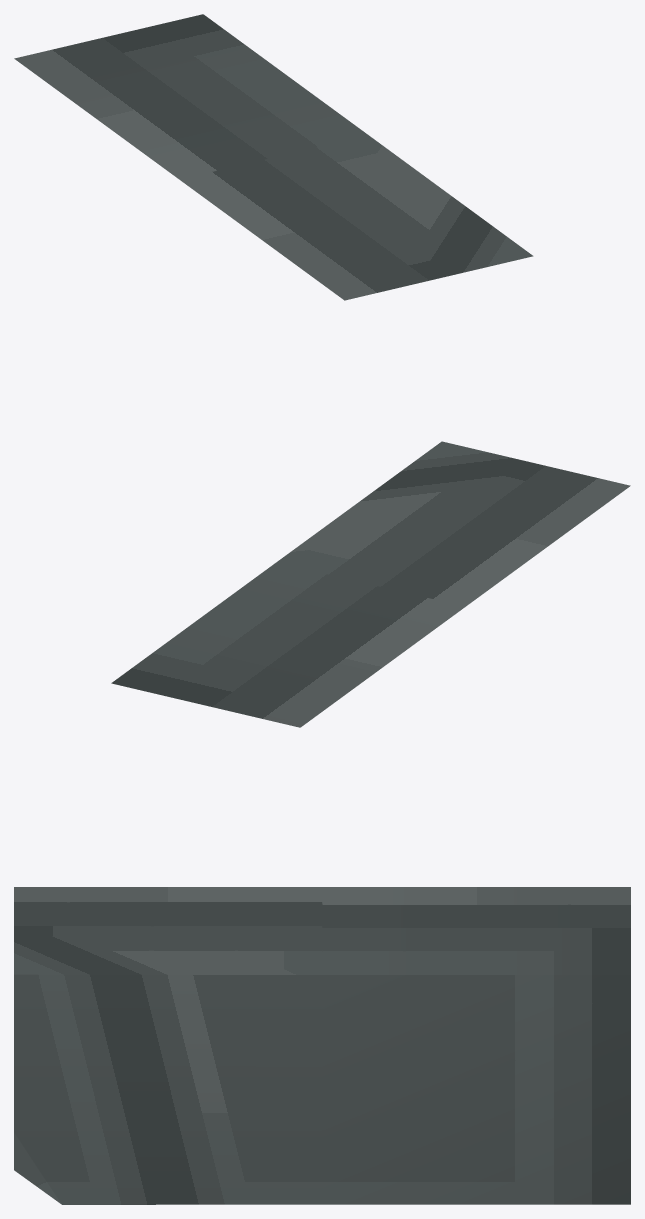
The picture shows the model from 3 angles, top to bottom: view 1: azimuth 30°, elevation 25°; view 2: azimuth 150°, elevation 25°; view 3: azimuth 270°, elevation 25°; orthographic projection. The views are drawn at different scales.
Bounding box in the file's own units: 0.5 × 0.3354 × 1.
Materials: 2 (2 with a texture image).
